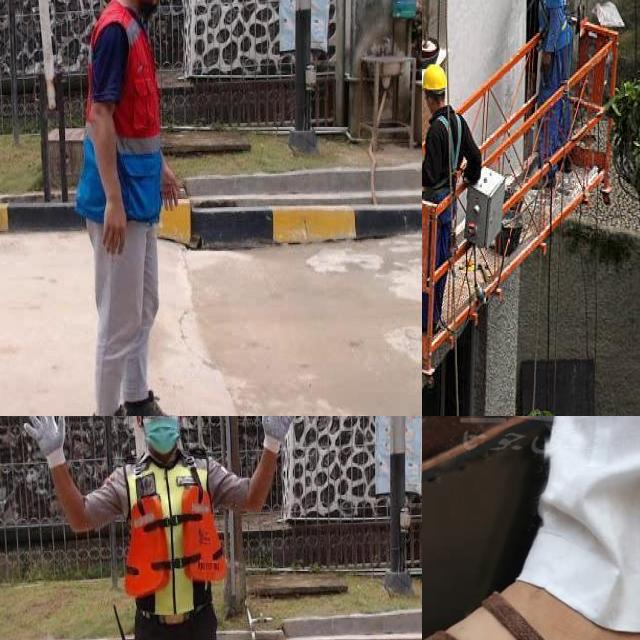Harness: (427, 114, 466, 251), (537, 0, 569, 98)
Sandals: (422, 557, 640, 640)
boots: (119, 386, 205, 416), (79, 403, 159, 416)
person: (37, 0, 225, 416), (0, 416, 311, 640)
vest: (66, 0, 179, 236), (123, 456, 228, 626)
